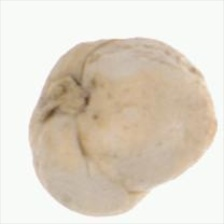L4: (27, 36, 217, 217)
